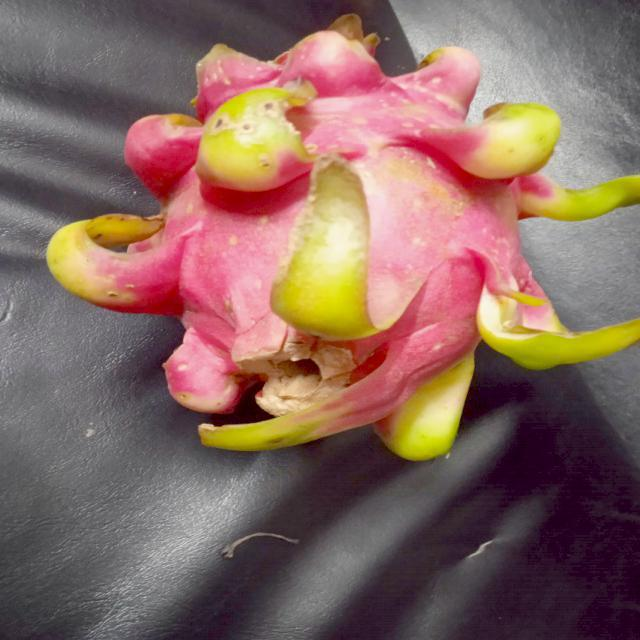do: (38, 19, 639, 464)
